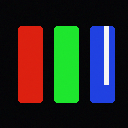4 line_v: (104, 26, 108, 84)
